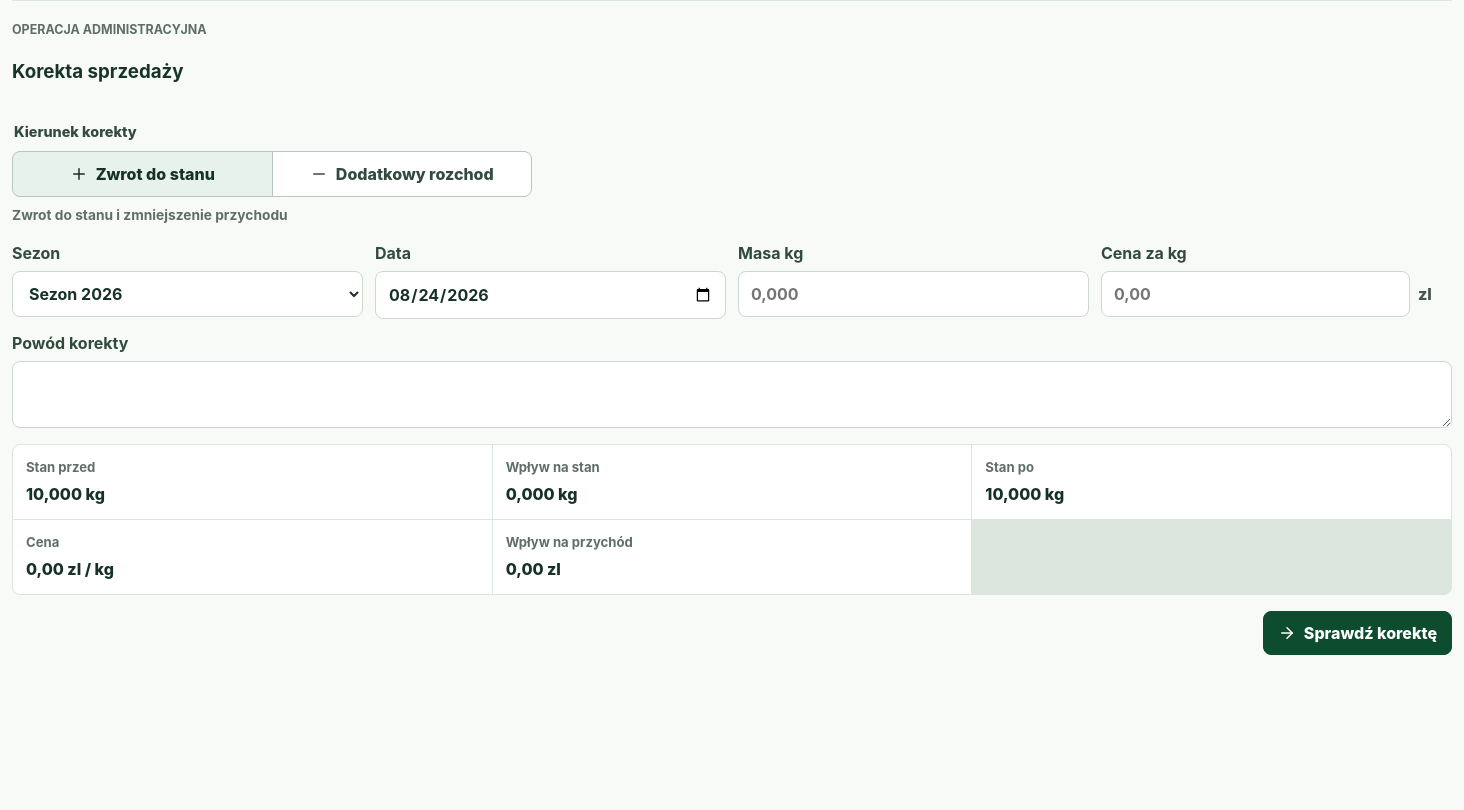
Scenario: SaleCorrectionForm › shows the stock and revenue effect of returning kilograms to stock
The image size is (1464, 810).
Type "3" into the field labelled "Masa kg" at [914, 294], box [738,272,1089,318]
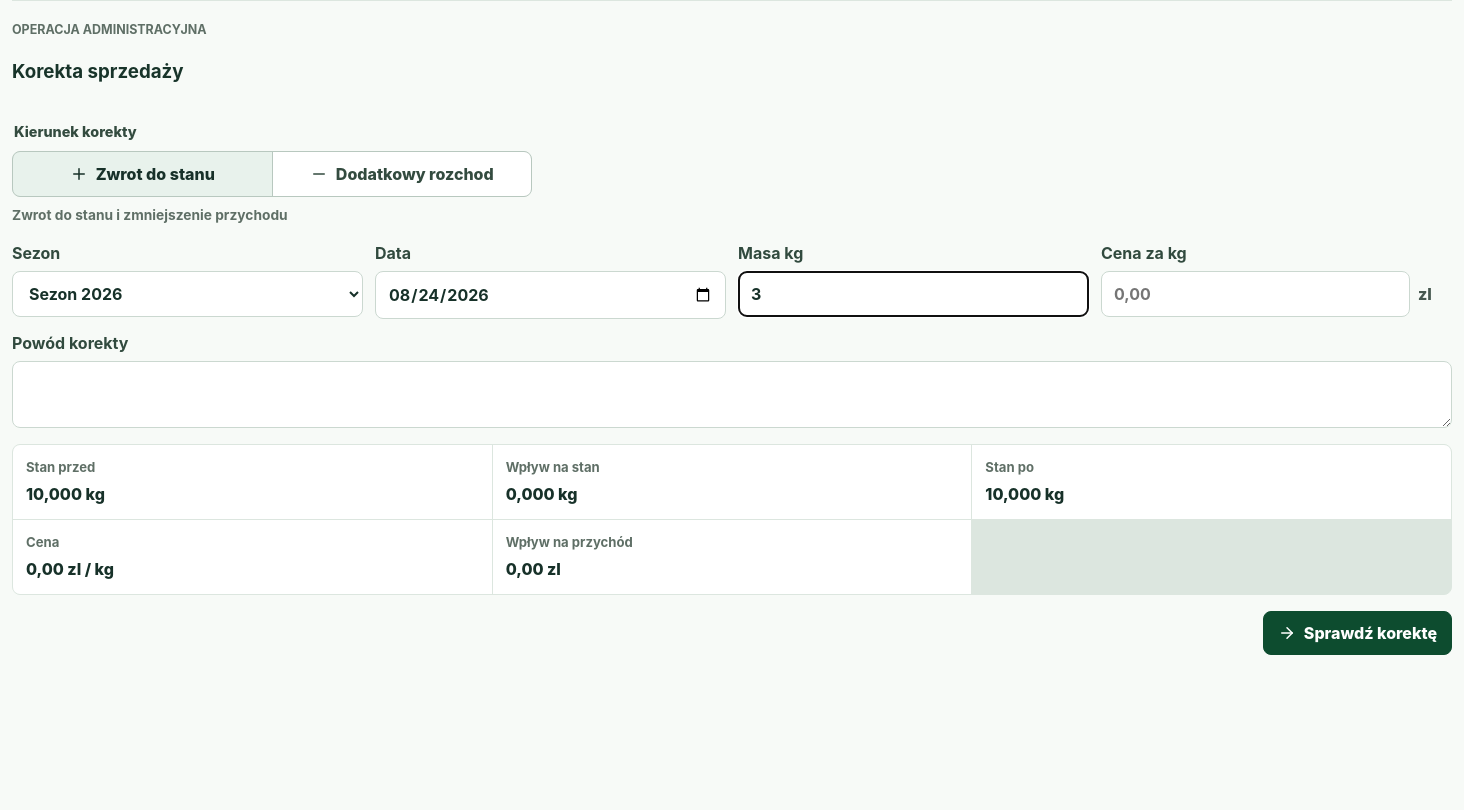
Type "12,50" into the field labelled "Cena za kg" at [1256, 294], box [1101,272,1410,318]
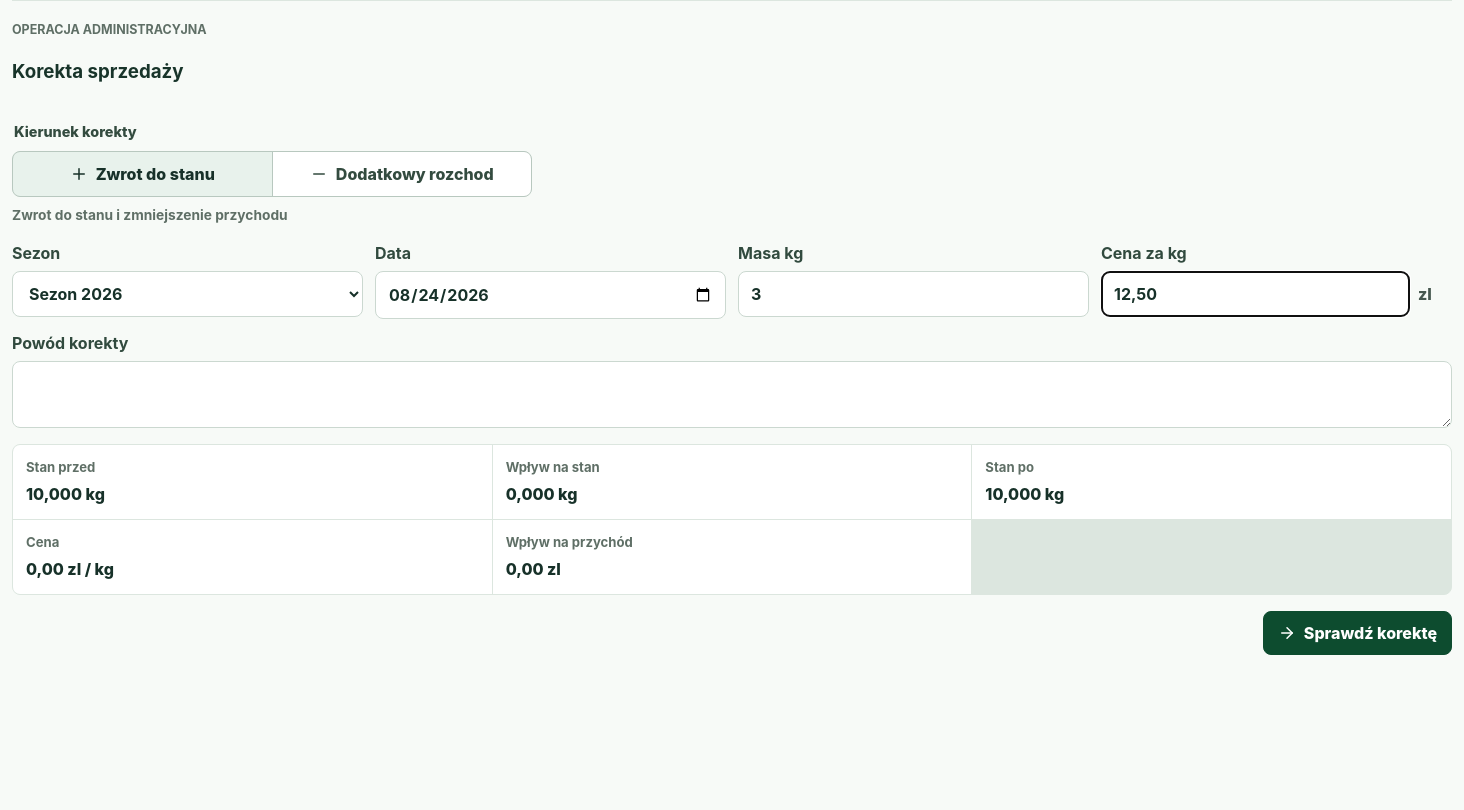
Type "Powod korekty sprzedazy" into the text box labelled "Powód korekty" at [732, 395], box [12,362,1452,428]
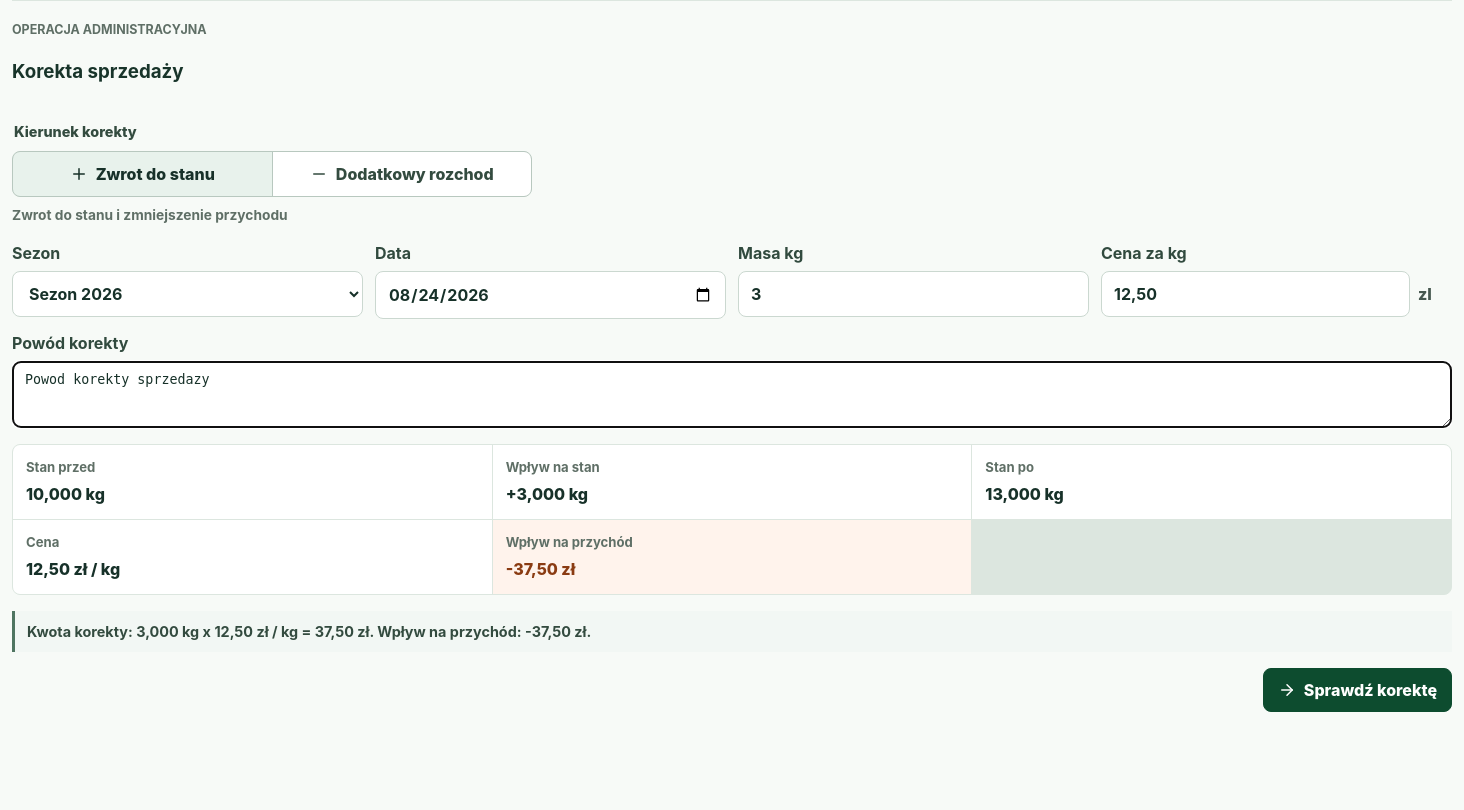
Now the text "+3,000 kg" is shown, box [506,484,588,504]
Now the text "13,000 kg" is shown, box [985,484,1064,504]
Now the text "-37,50 zł" is shown, box [506,559,575,579]
